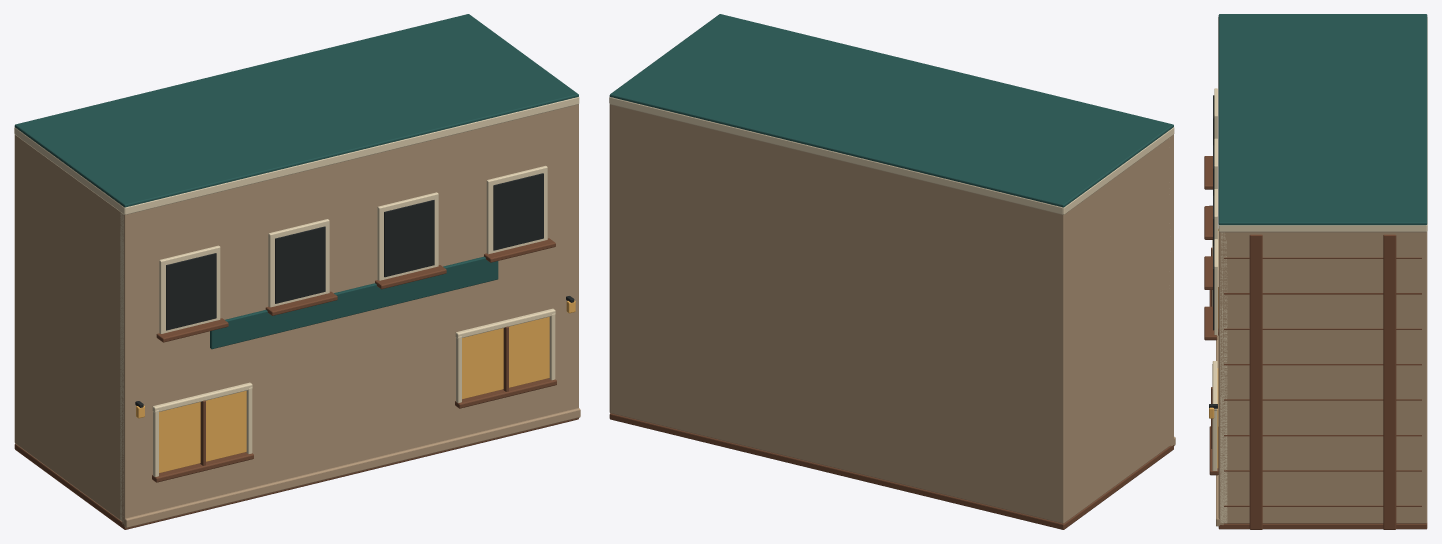
The picture shows the model from 3 angles, left to right: view 1: azimuth 30°, elevation 25°; view 2: azimuth 150°, elevation 25°; view 3: azimuth 270°, elevation 25°; orthographic projection. The views are drawn at different scales.
Parts seen in each view (by area): view 1: ClosedSupportingVolume, Roof_RemoveForInteriorReview, NQ-SGN-10, WindowGraphicProxy.001, WindowGraphicProxy, PlinthBand, CreamRoofCornice, UpperWindowDarkFill.002, UpperWindowDarkFill, UpperWindowDarkFill.001, UpperWindowDarkFill.003, Floor (+14 smaller); view 2: ClosedSupportingVolume, Roof_RemoveForInteriorReview, Floor, CreamRoofCornice.001, CreamSideCornice; view 3: ClosedSupportingVolume, Roof_RemoveForInteriorReview, SideBrickPilaster, SideBrickPilaster.001, CornerTrim.001, CreamSideCornice.001, Floor, UpperWindowFrame.003, UpperWindowSill.003, WindowJamb.003, SideMasonryCourse.001, SideMasonryCourse.003 (+10 smaller).
Part boxes in pixels (x1,y1,x2,y2): ClosedSupportingVolume: (14, 104, 578, 522); Roof_RemoveForInteriorReview: (14, 14, 578, 207); NQ-SGN-10: (210, 256, 498, 349); WindowGraphicProxy.001: (462, 317, 549, 399); WindowGraphicProxy: (159, 391, 246, 473); PlinthBand: (122, 408, 580, 527); CreamRoofCornice: (125, 97, 578, 214); UpperWindowDarkFill.002: (384, 200, 434, 277); UpperWindowDarkFill: (166, 253, 216, 330); UpperWindowDarkFill.001: (275, 226, 325, 303); UpperWindowDarkFill.003: (493, 173, 543, 250); Floor: (14, 418, 578, 529); ClosedSupportingVolume: (609, 104, 1173, 523); Roof_RemoveForInteriorReview: (609, 14, 1173, 207); Floor: (609, 413, 1173, 529); CreamRoofCornice.001: (609, 97, 1063, 214); CreamSideCornice: (1063, 127, 1174, 214); ClosedSupportingVolume: (1218, 232, 1427, 523); Roof_RemoveForInteriorReview: (1218, 14, 1427, 225); SideBrickPilaster: (1249, 234, 1262, 529); SideBrickPilaster.001: (1383, 234, 1396, 529); CornerTrim.001: (1220, 232, 1227, 523); CreamSideCornice.001: (1219, 225, 1426, 232); Floor: (1218, 523, 1427, 529); UpperWindowFrame.003: (1214, 239, 1217, 336); UpperWindowSill.003: (1204, 306, 1217, 340); WindowJamb.003: (1212, 410, 1217, 470); SideMasonryCourse.001: (1224, 470, 1421, 471); SideMasonryCourse.003: (1224, 399, 1421, 400).
Size of the model in its own units: 38.12 by 26 by 17.13.
